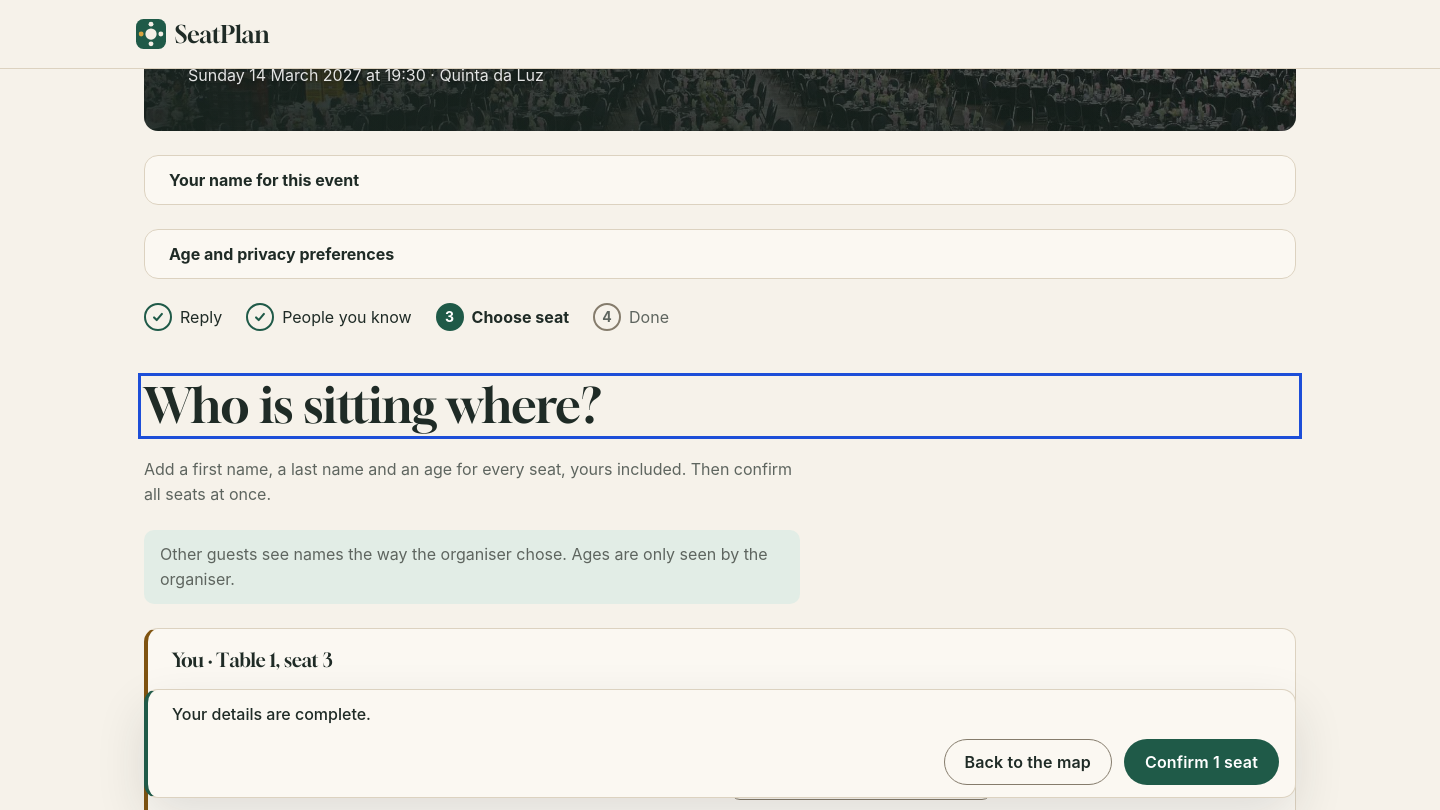
Attendee page › explains when another guest confirms first
The image size is (1440, 810).
Earlier steps of the test are not shown.
(page scrolled)
Step 1. Click the button "Confirm 1 seat" → (1202, 762), box top-left (1124, 739), bottom-right (1279, 785)
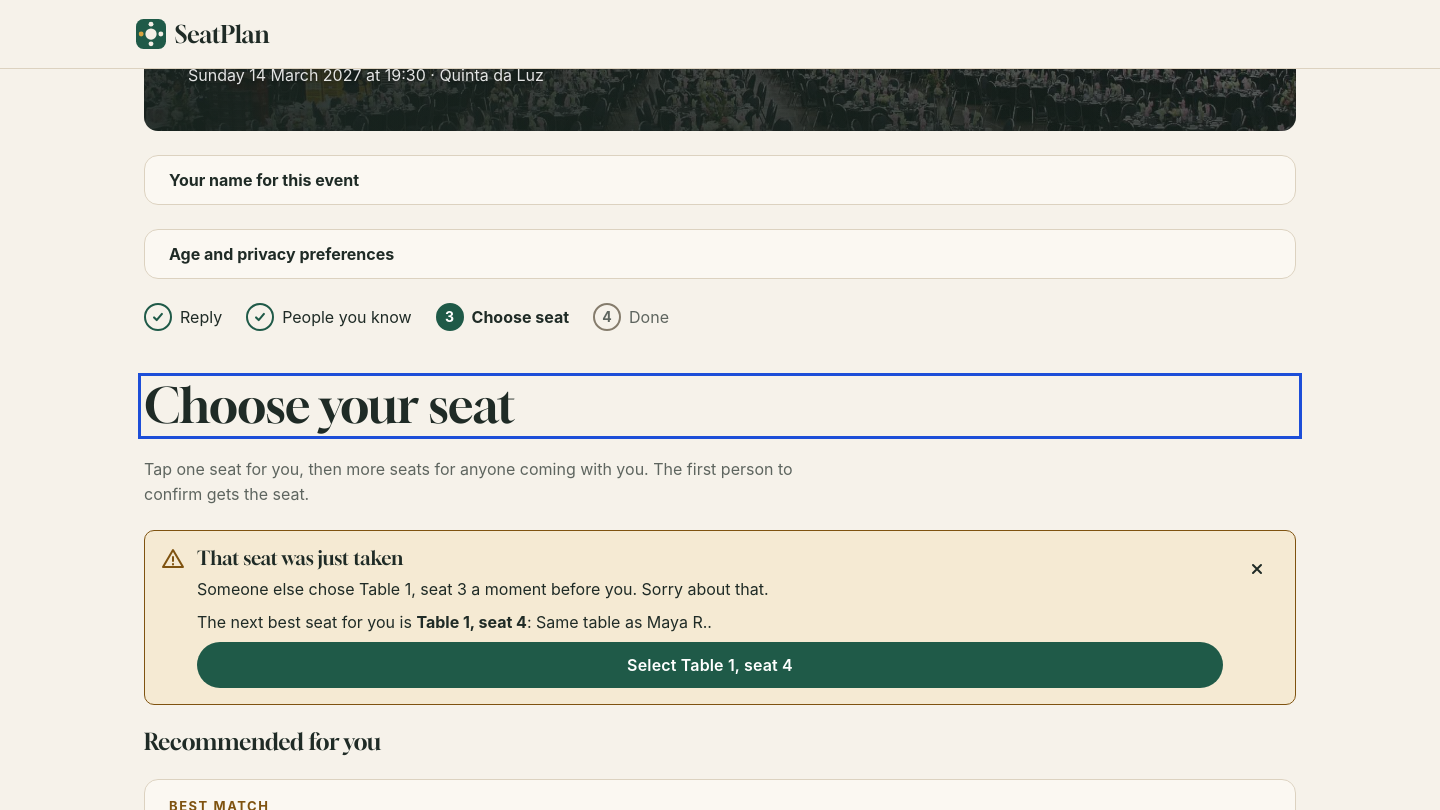
Result: the heading "That seat was just taken" is shown at top-left (197, 546), bottom-right (403, 569)
Step 2. Click the button "Select Table 1, seat 4" → (710, 665), box top-left (197, 642), bottom-right (1223, 688)
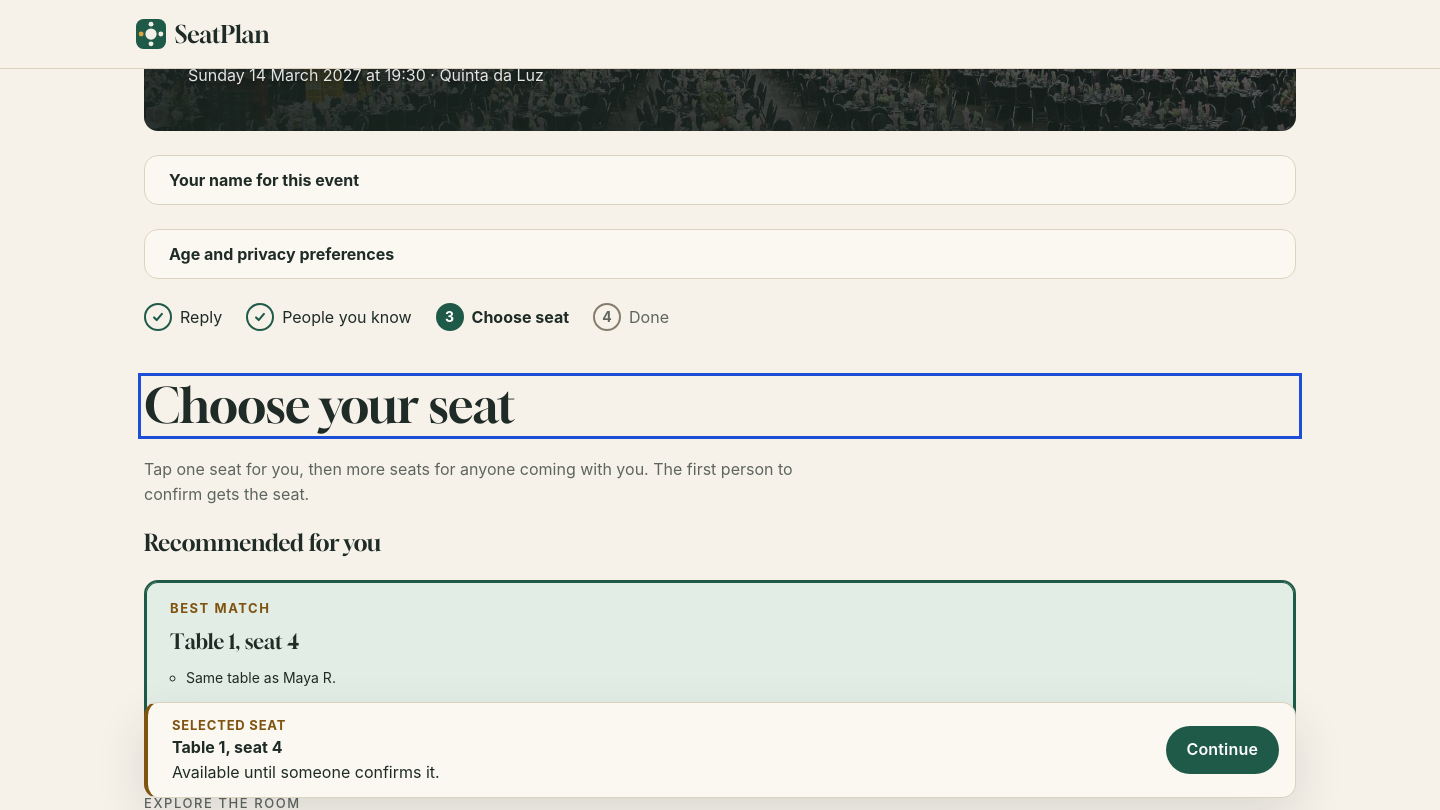
Result: the element "Selected seat" is shown at top-left (144, 702), bottom-right (1296, 798)
